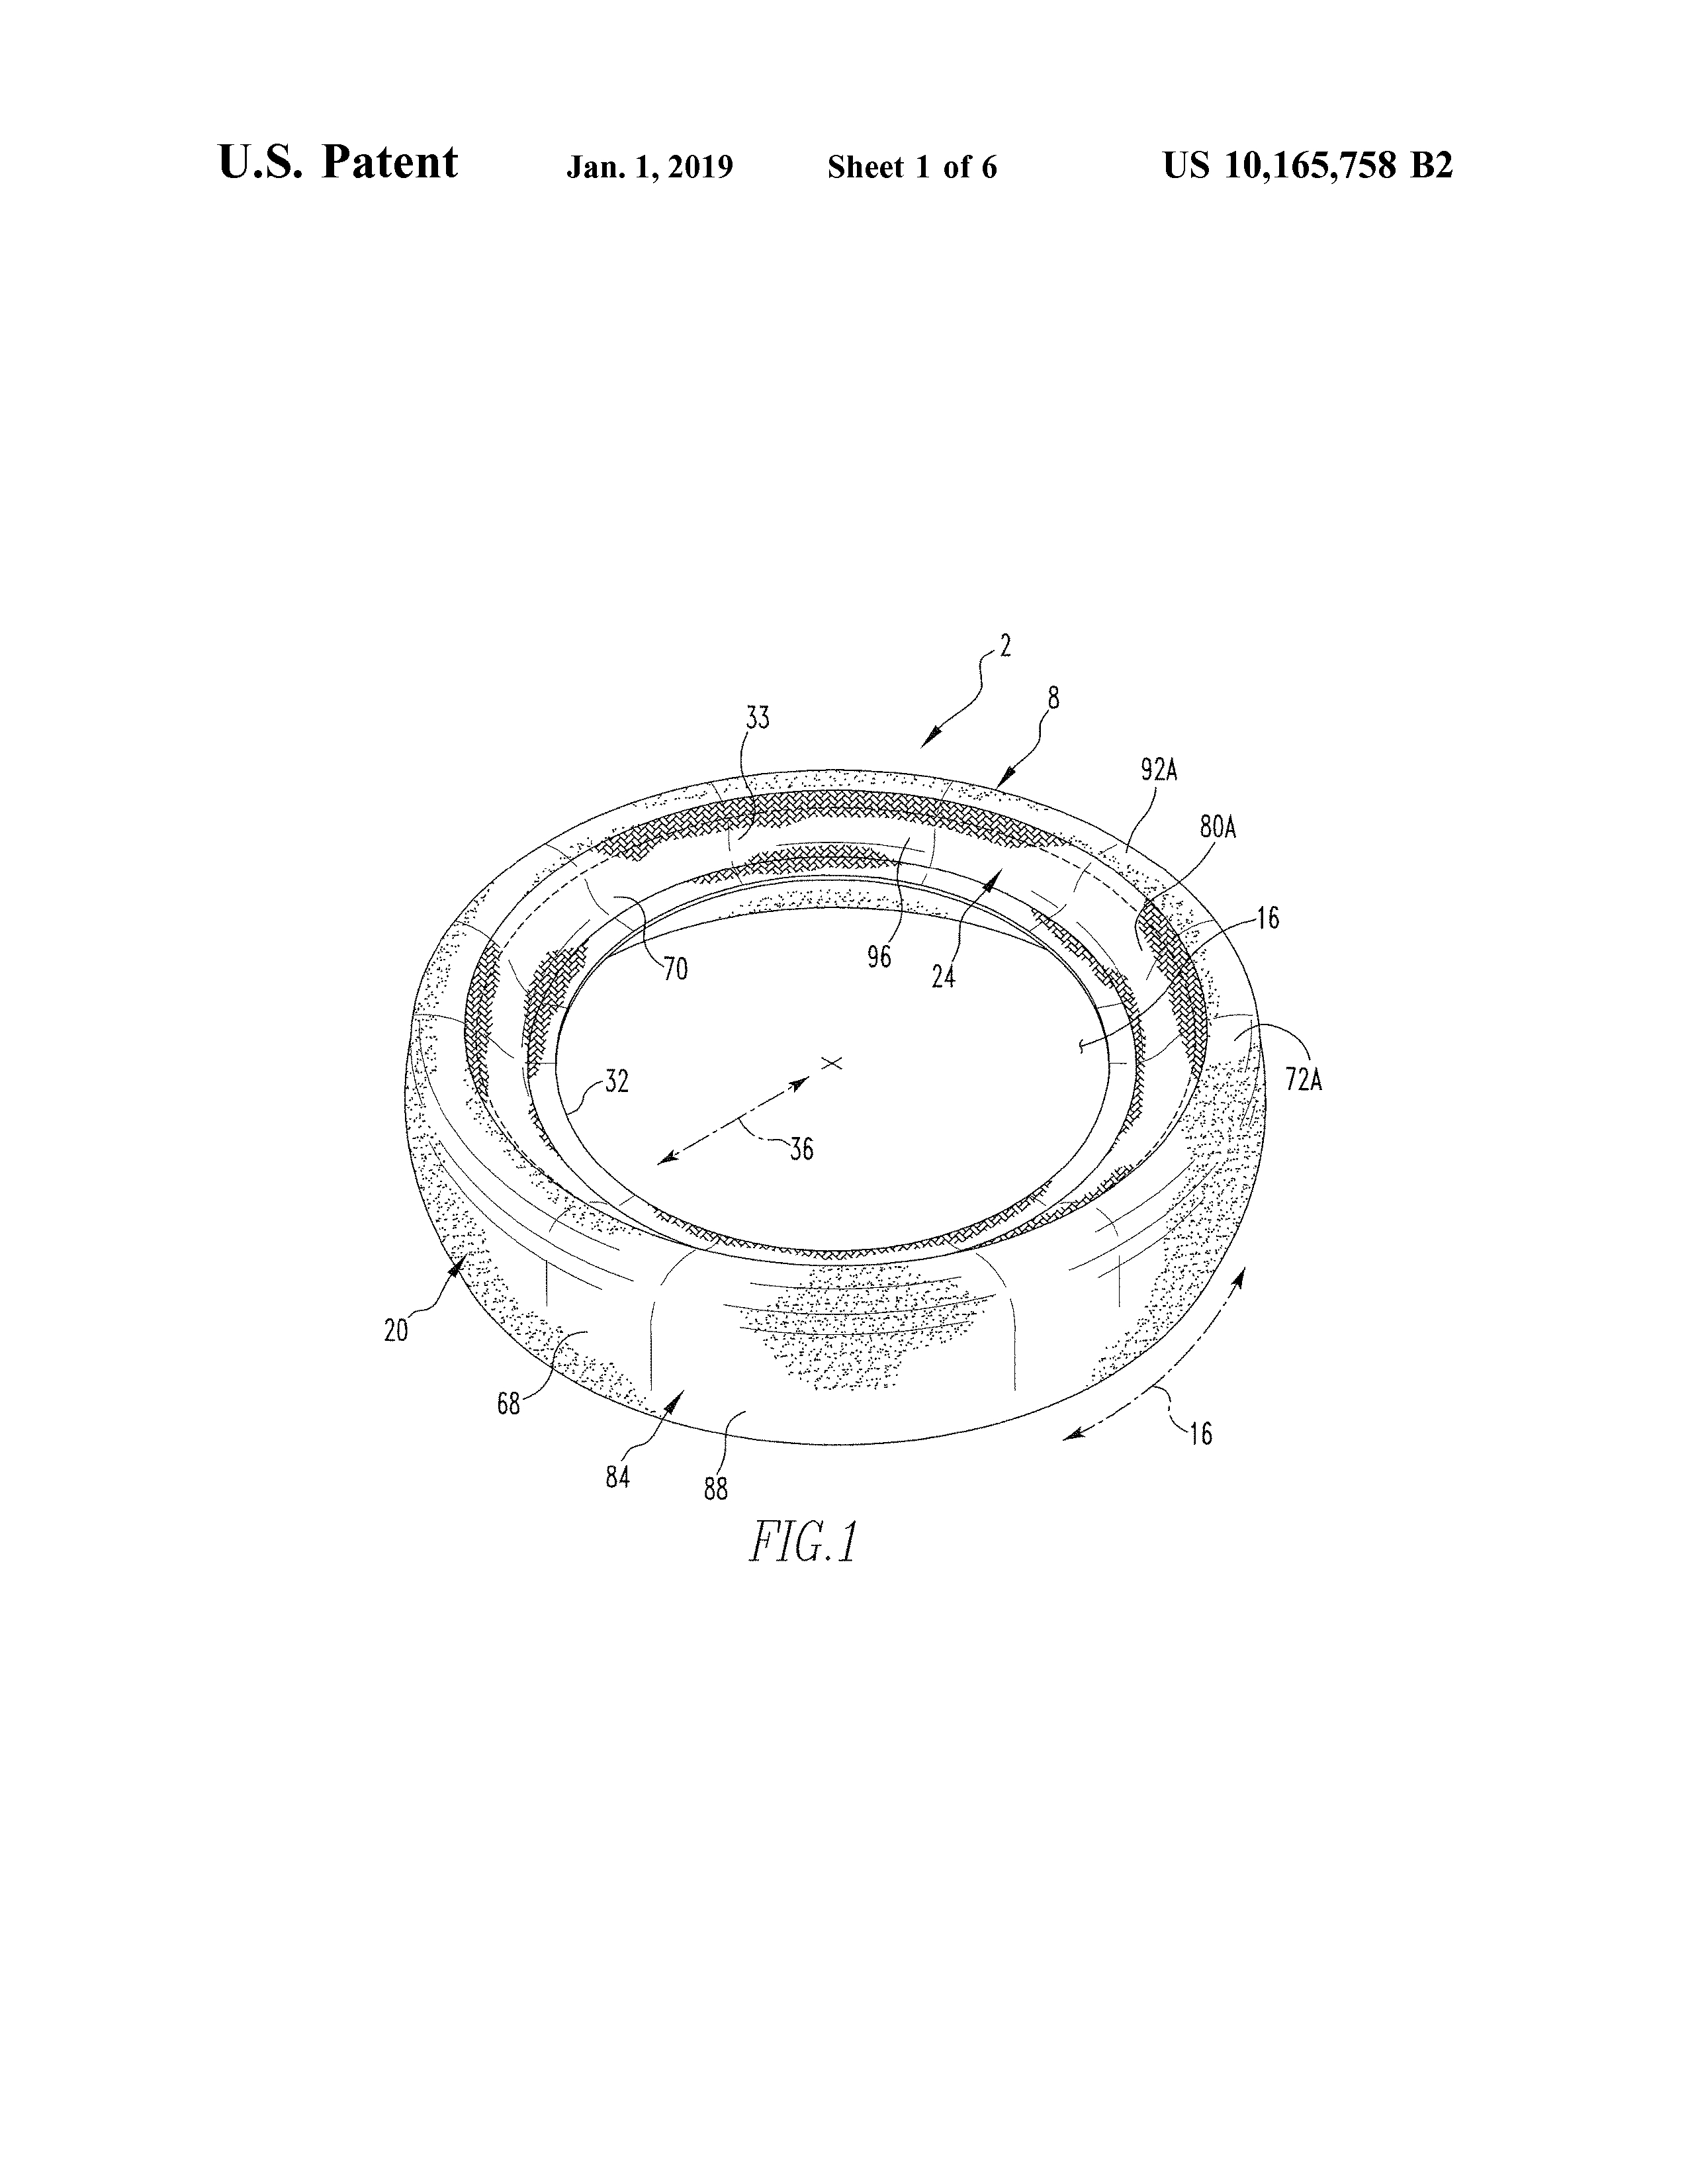patent image: (335, 529, 1416, 1797)
